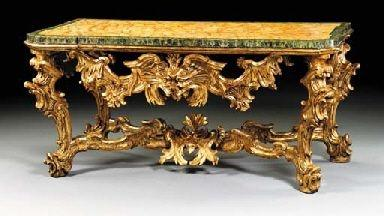Carving Table: (26, 14, 358, 194)
